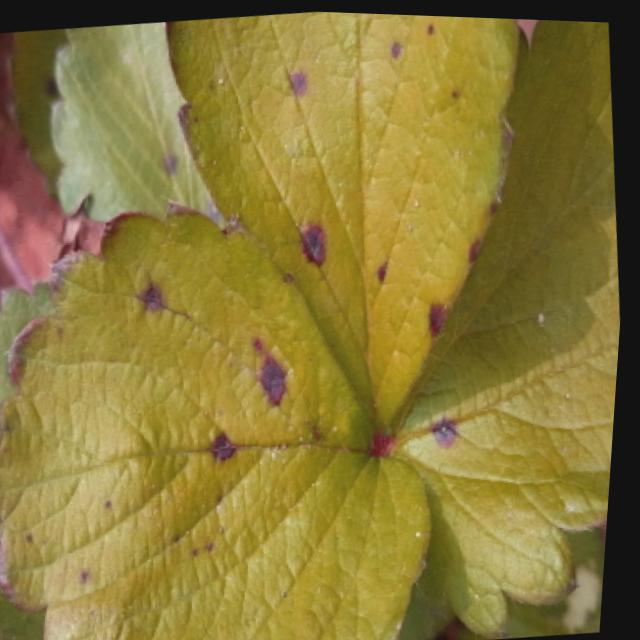Leaf Spot: (0, 198, 437, 640), (161, 9, 520, 434), (384, 16, 624, 635), (46, 20, 224, 225), (2, 27, 65, 203)
